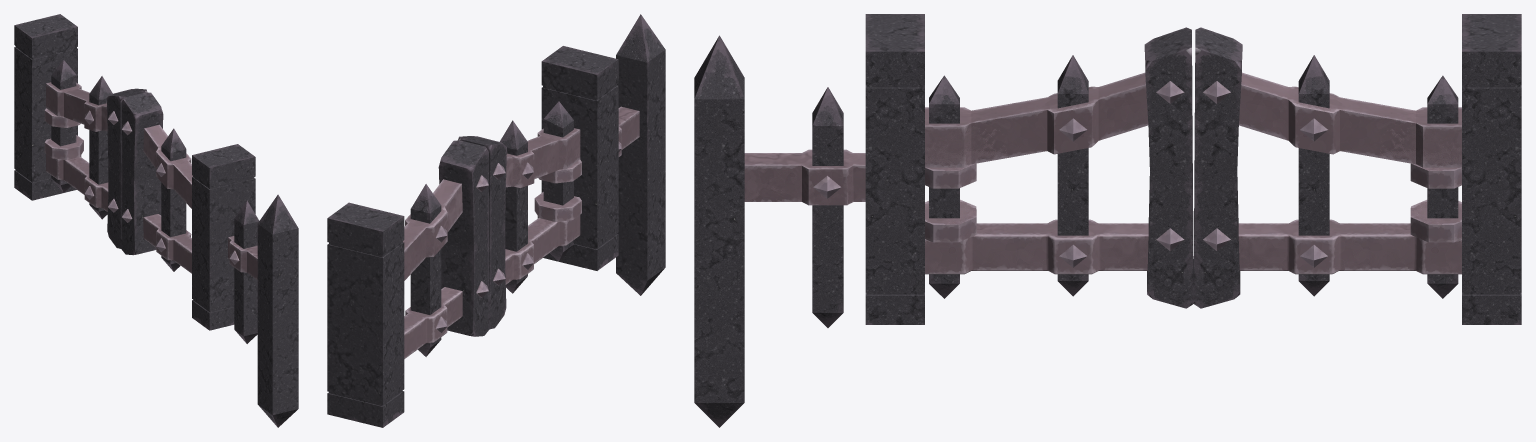
The model's file is Long's metal gate way #2.fbx.
3 views of the same model, side by side, from view 1: azimuth 30°, elevation 25°; view 2: azimuth 150°, elevation 25°; view 3: azimuth 270°, elevation 25° (orthographic). The views are drawn at different scales.
Visible parts, largest first — view 1: Cube.011, Cube.040, Cube.028, Cube.036, Cube.030, Cube.035, Cube.041, Cube.034, Cylinder.006, Cube.042, Cube.038, Cube.037; view 2: Cube.011, Cube.040, Cube.028, Cube.036, Cube.030, Cube.035, Cube.034, Cylinder.006, Cube.042, Cube.038, Cube.037; view 3: Cube.011, Cube.028, Cube.036, Cube.035, Cube.040, Cube.030, Cube.041, Cube.042, Cube.034, Cylinder.006, Cube.037, Cube.038.
Part boxes in pixels (x1=…): Cube.011: x1=14, y1=14, x2=255, y2=330; Cube.040: x1=257, y1=194, x2=298, y2=427; Cube.028: x1=106, y1=88, x2=163, y2=255; Cube.036: x1=46, y1=82, x2=192, y2=208; Cube.030: x1=89, y1=76, x2=186, y2=271; Cube.035: x1=46, y1=154, x2=191, y2=273; Cube.041: x1=234, y1=200, x2=259, y2=343; Cube.034: x1=51, y1=60, x2=76, y2=192; Cylinder.006: x1=44, y1=108, x2=83, y2=159; Cube.042: x1=228, y1=236, x2=257, y2=280; Cube.038: x1=108, y1=111, x2=132, y2=222; Cube.037: x1=84, y1=110, x2=165, y2=252; Cube.011: x1=327, y1=46, x2=618, y2=427; Cube.040: x1=616, y1=14, x2=665, y2=295; Cube.028: x1=438, y1=136, x2=506, y2=336; Cube.036: x1=403, y1=128, x2=580, y2=280; Cube.030: x1=410, y1=120, x2=527, y2=356; Cube.035: x1=404, y1=215, x2=580, y2=358; Cube.034: x1=543, y1=101, x2=573, y2=261; Cylinder.006: x1=534, y1=159, x2=581, y2=221; Cube.042: x1=618, y1=106, x2=639, y2=156; Cube.038: x1=476, y1=163, x2=505, y2=297; Cube.037: x1=435, y1=162, x2=533, y2=333; Cube.011: x1=865, y1=14, x2=1521, y2=324; Cube.028: x1=1144, y1=27, x2=1242, y2=308; Cube.036: x1=925, y1=72, x2=1461, y2=167; Cube.035: x1=925, y1=219, x2=1461, y2=274; Cube.040: x1=694, y1=35, x2=744, y2=427; Cube.030: x1=1057, y1=55, x2=1329, y2=296; Cube.041: x1=812, y1=87, x2=843, y2=327; Cube.042: x1=744, y1=149, x2=865, y2=205; Cube.034: x1=929, y1=75, x2=1458, y2=298; Cylinder.006: x1=925, y1=163, x2=1461, y2=242; Cube.037: x1=1059, y1=118, x2=1327, y2=267; Cube.038: x1=1156, y1=81, x2=1230, y2=251.
Size of the model in its own units: 66.06 by 322 by 613.
